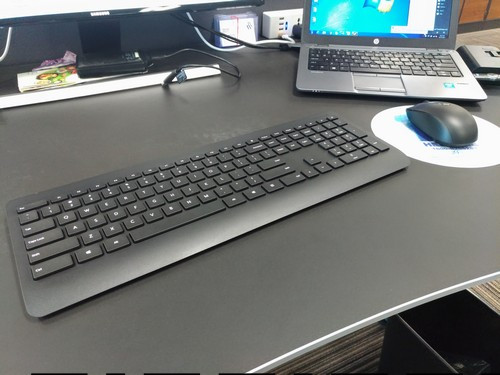keyboard: (1, 107, 410, 329)
mouse: (406, 97, 485, 154)
